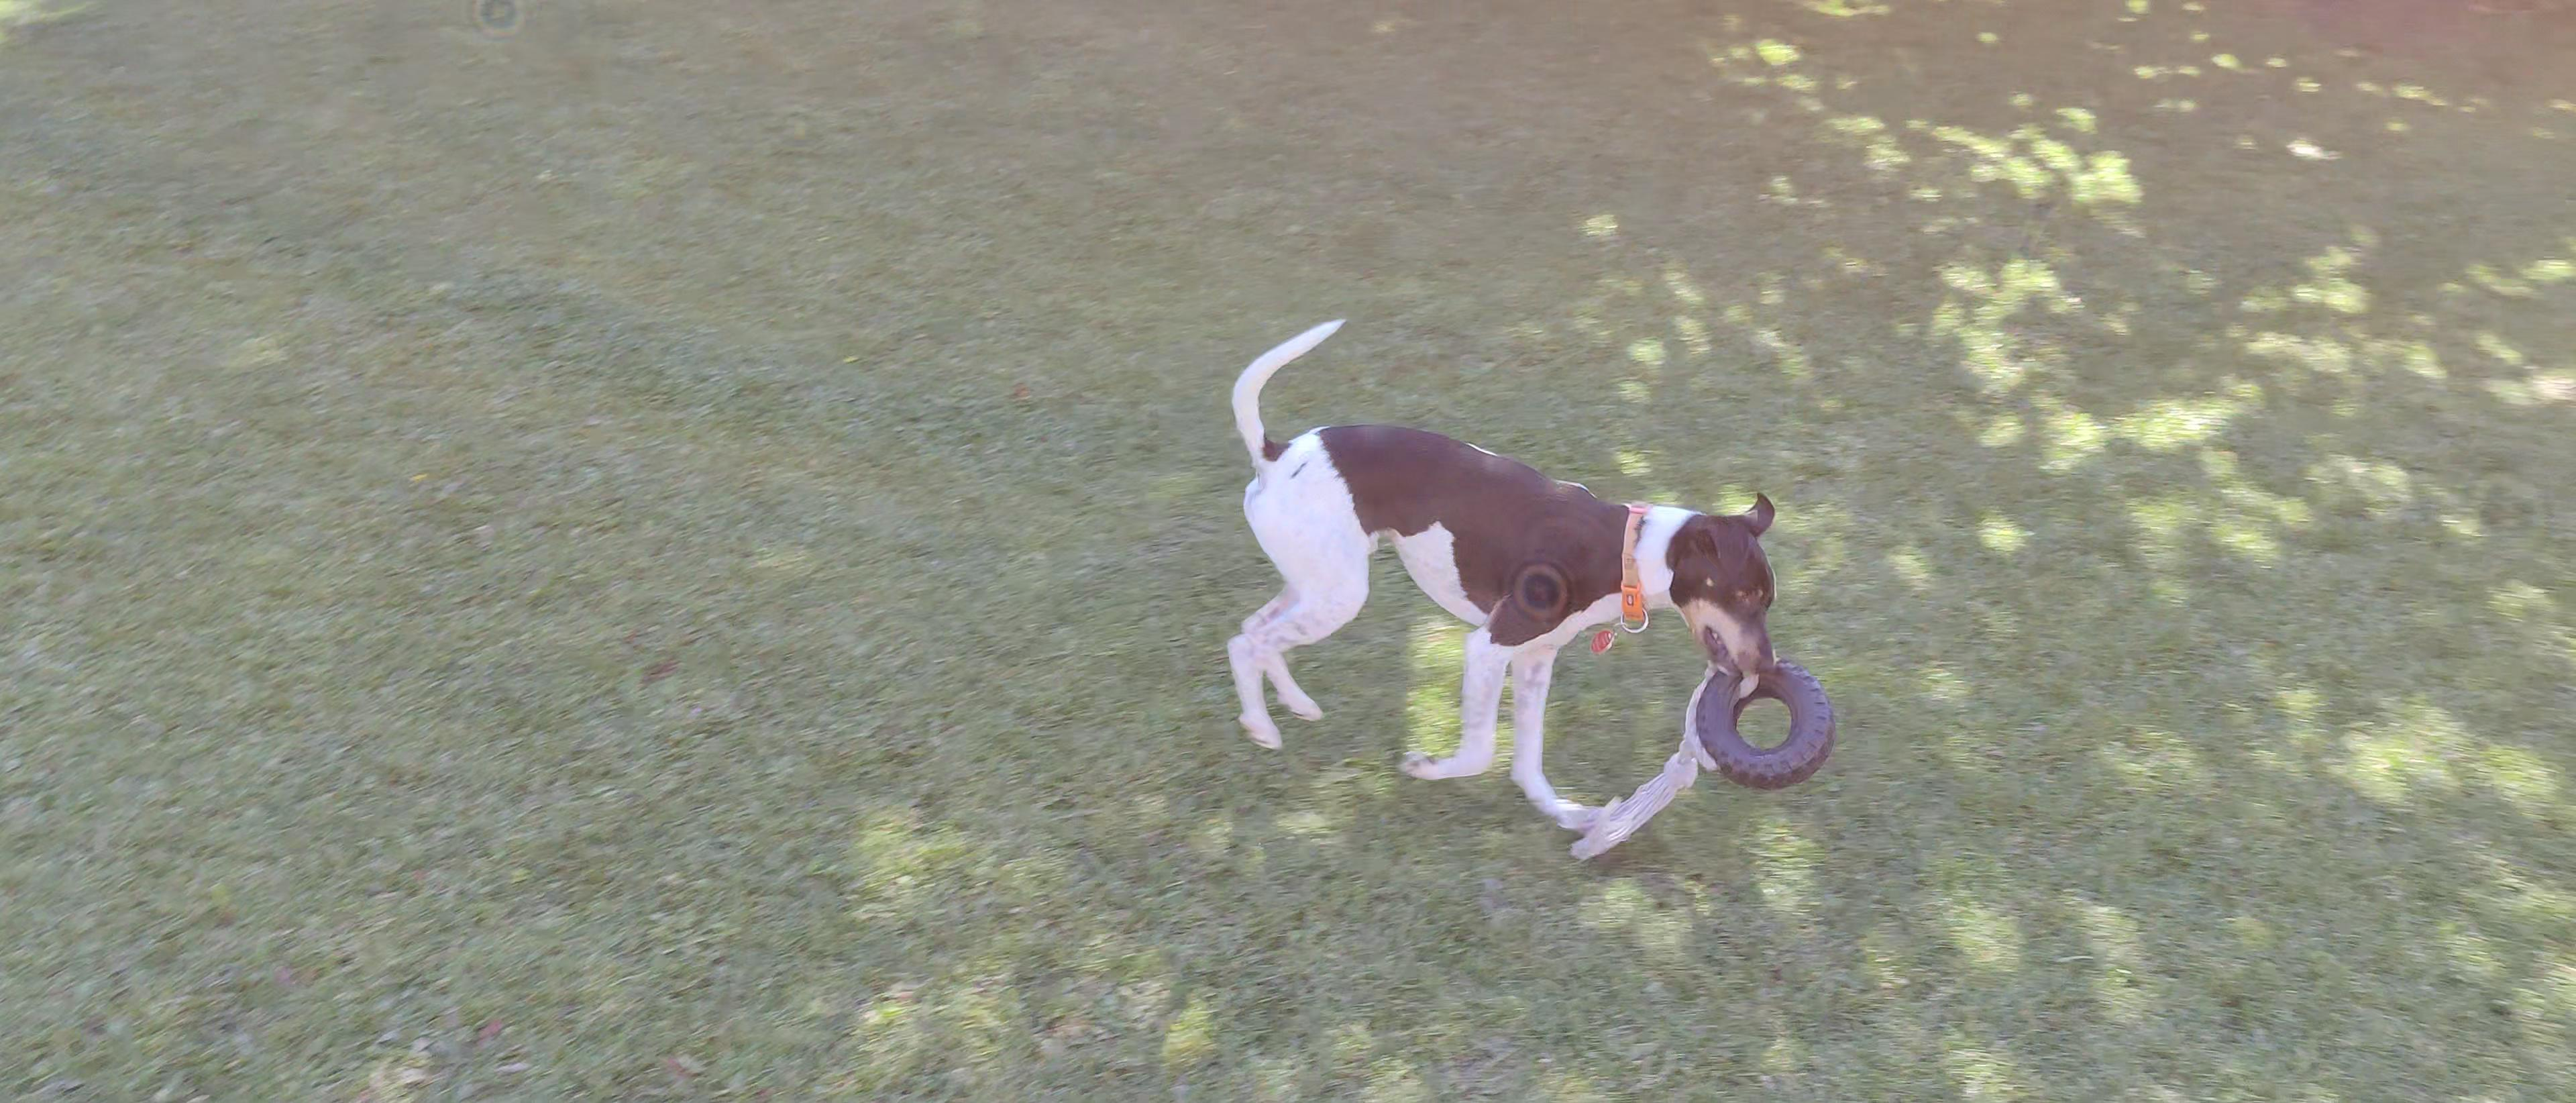Dog: (1214, 298, 1786, 819)
